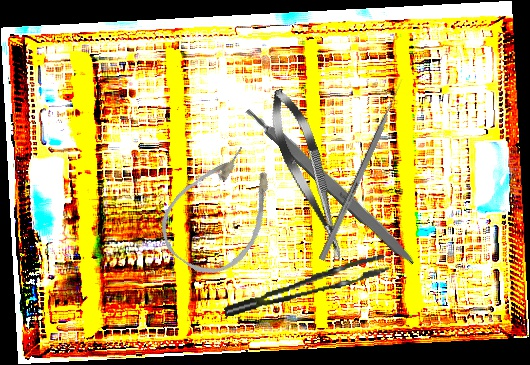Cannula: (147, 133, 296, 289)
Micro Scissor: (260, 83, 357, 267)
Pusher: (318, 77, 406, 262)
Scalpel Handle: (243, 102, 421, 268)
Tissue Forceps: (219, 254, 393, 317)
